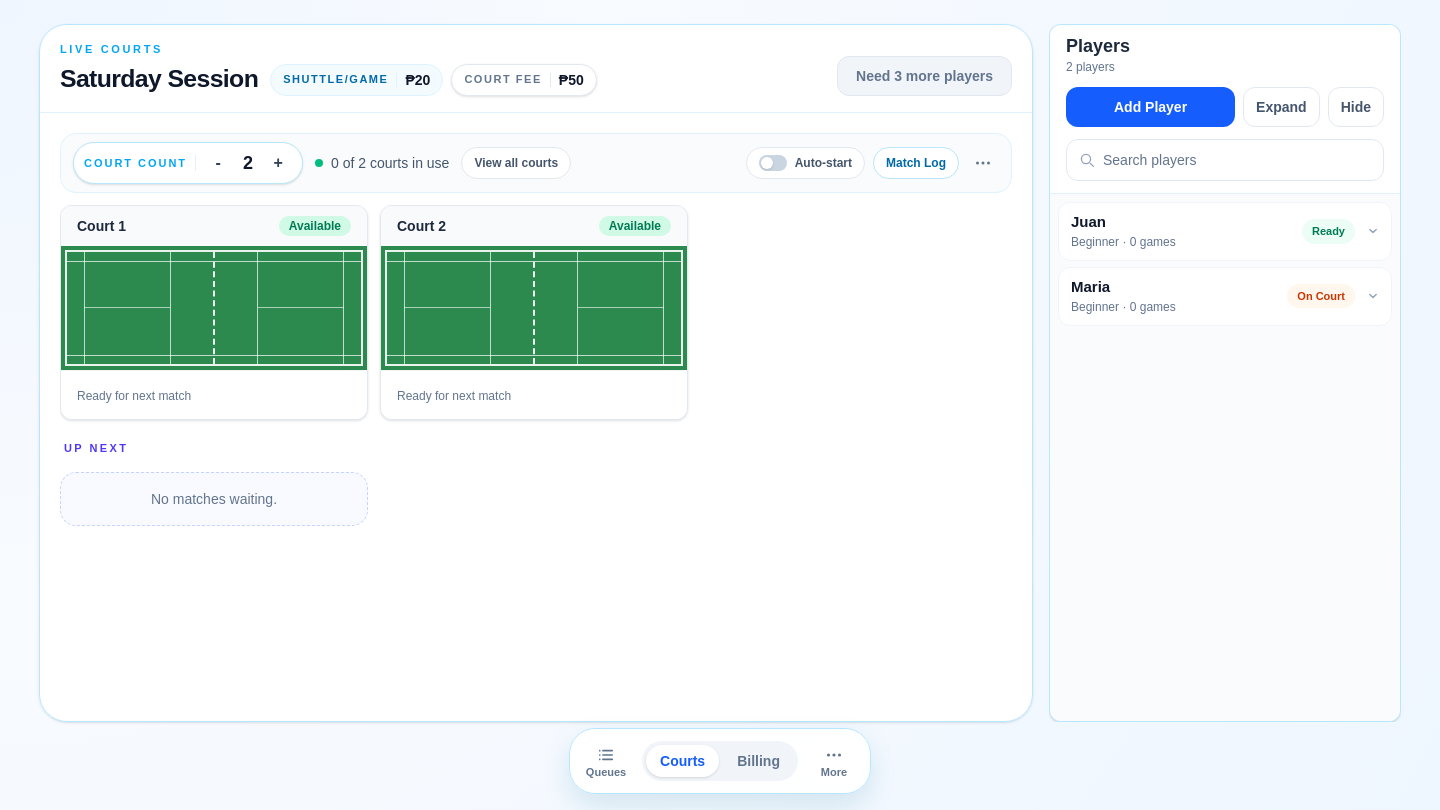
Test case: queue page players › does not offer actions for a player on court
Click the button with aria-label "Show details for Maria" at (1091, 286), box [1059,268,1391,325]
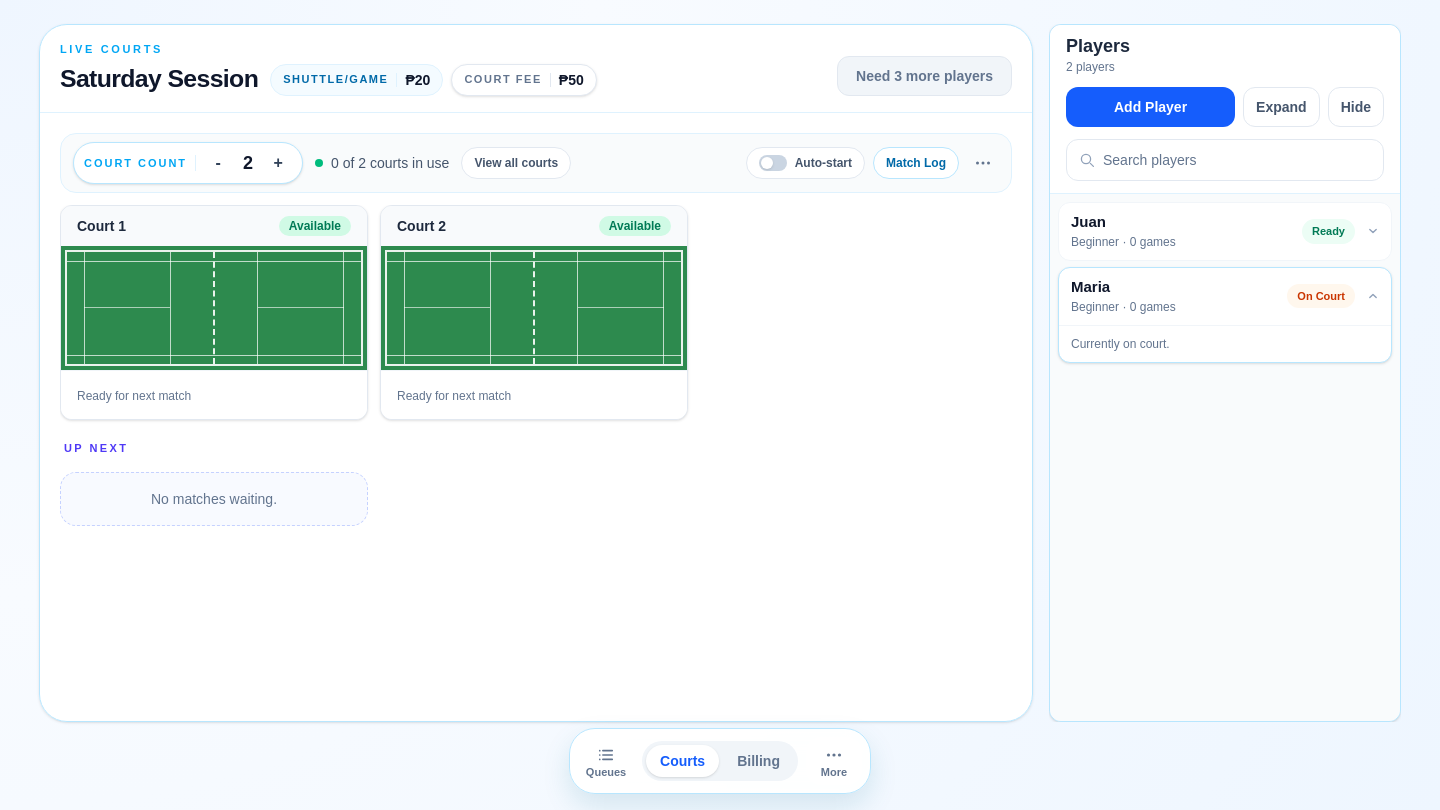
Expected: the text "Currently on court." is shown, [1071,336,1170,350]
